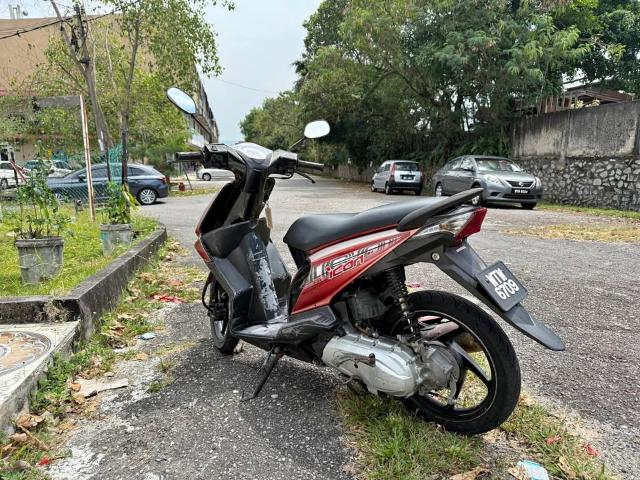License_Plate: (476, 261, 528, 313)
motorcycle: (169, 117, 567, 436)
